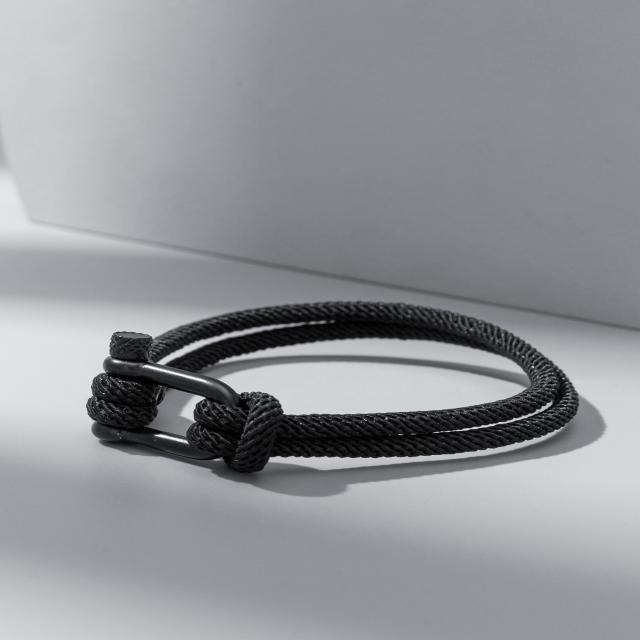bracelet: (75, 234, 640, 541)
